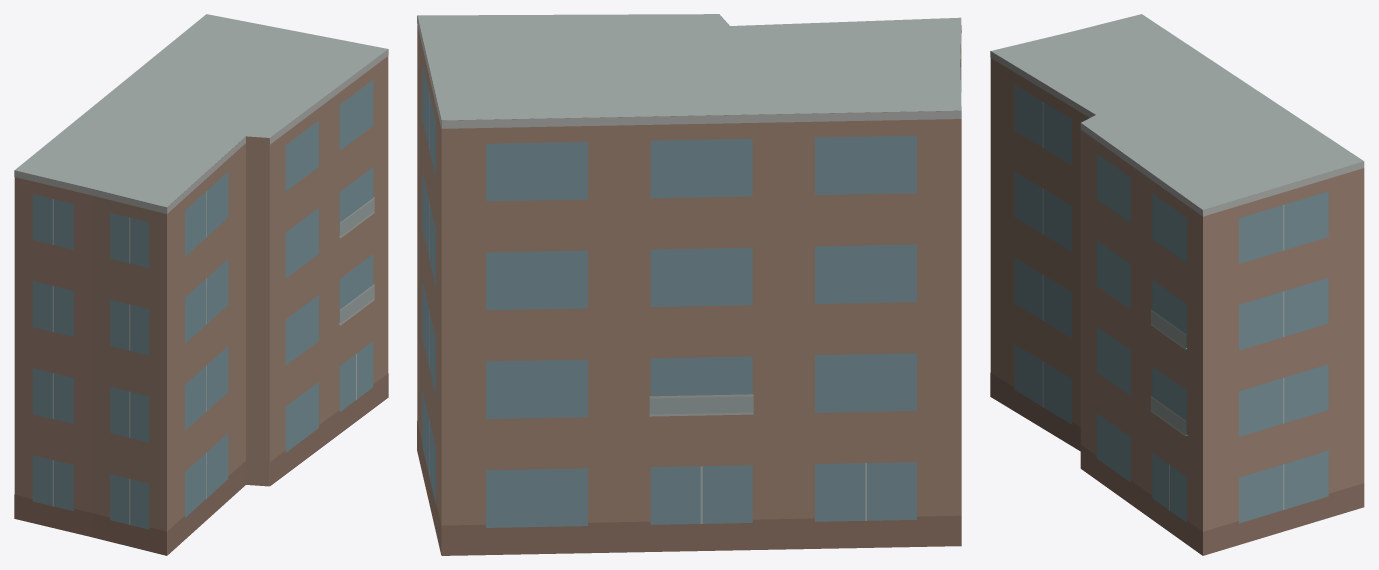
File: survey-upis-32895226.glb
The picture shows the model from 3 angles, left to right: view 1: azimuth 30°, elevation 25°; view 2: azimuth 150°, elevation 25°; view 3: azimuth 270°, elevation 25°; orthographic projection. The views are drawn at different scales.
Parts seen in each view (by area): view 1: survey-upis-32895226.tmp; view 2: survey-upis-32895226.tmp; view 3: survey-upis-32895226.tmp.
Part boxes in pixels (x1,y1,x2,y2): survey-upis-32895226.tmp: (14,14,388,555); survey-upis-32895226.tmp: (417,14,961,555); survey-upis-32895226.tmp: (990,14,1364,555).
Bounding box in the file's own units: 15.45 × 12.7 × 12.45.
